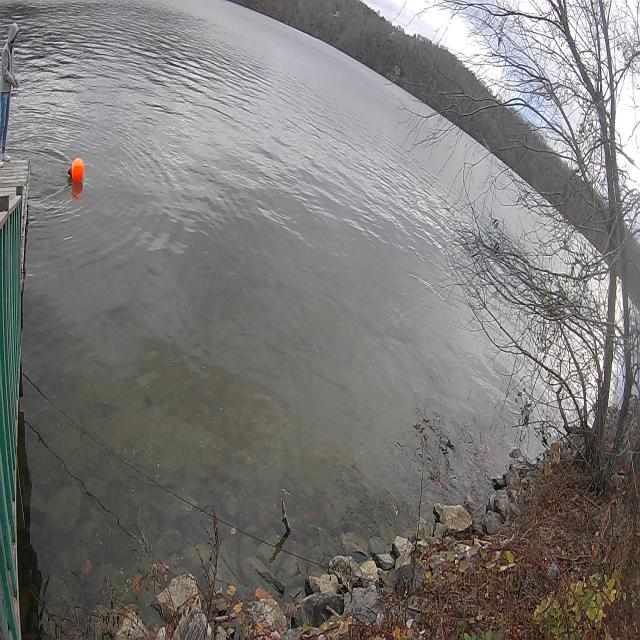Buoy: (63, 148, 88, 193)
